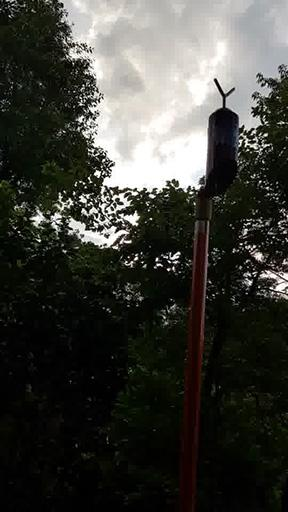Detector_Tensao_Contato: (203, 77, 239, 198)
Vara_Manobra: (184, 196, 215, 512)
